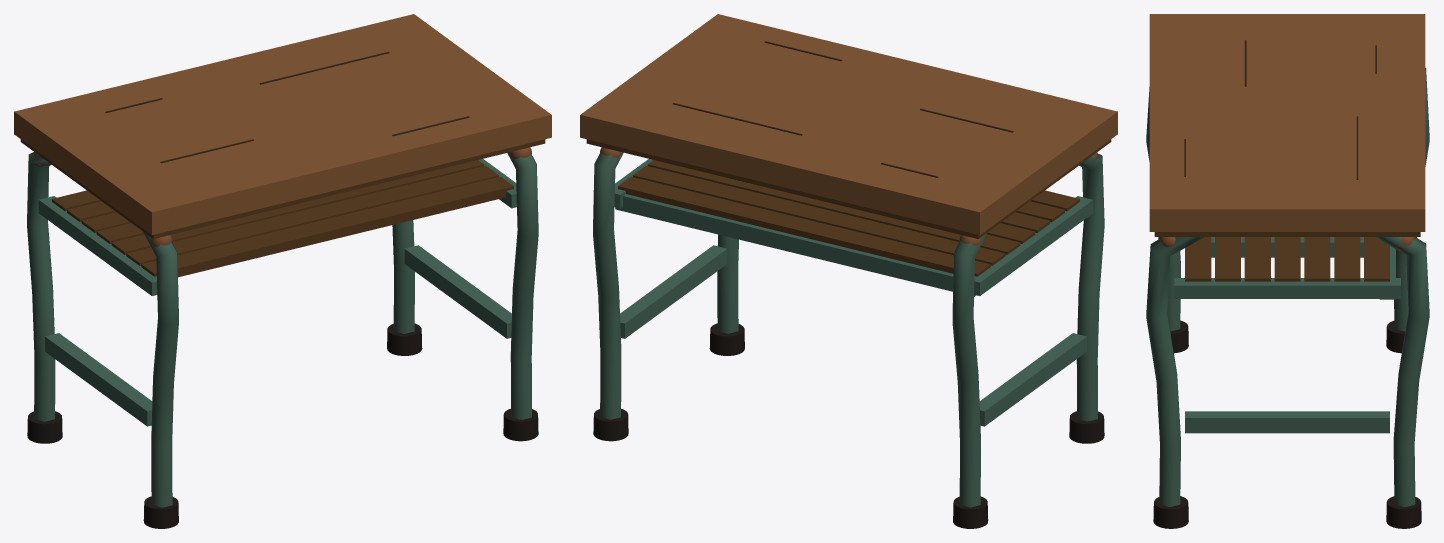
The model's file is mia-desk.glb.
3 renders of one model, left to right at view 1: azimuth 30°, elevation 25°; view 2: azimuth 150°, elevation 25°; view 3: azimuth 270°, elevation 25°, orthographic.
Visible parts, largest first — view 1: Body_oak, Body_sage, Body_wood, Body_black, Body_grain; view 2: Body_oak, Body_sage, Body_wood, Body_black, Body_grain; view 3: Body_oak, Body_sage, Body_wood, Body_black, Body_grain.
Boxes of the visible parts, x1,y1,x2,y2 form: Body_oak: (14, 14, 551, 234); Body_sage: (27, 152, 538, 507); Body_wood: (20, 139, 545, 277); Body_black: (27, 323, 538, 528); Body_grain: (105, 51, 469, 163); Body_oak: (580, 14, 1117, 234); Body_sage: (593, 152, 1104, 507); Body_wood: (586, 139, 1111, 276); Body_black: (593, 323, 1104, 528); Body_grain: (672, 41, 1013, 177); Body_oak: (1149, 14, 1425, 231); Body_sage: (1146, 68, 1429, 506); Body_wood: (1154, 232, 1420, 281); Body_black: (1153, 320, 1421, 528); Body_grain: (1184, 40, 1376, 179).
Size of the model in its own units: 0.992 by 0.766 by 0.6083.
